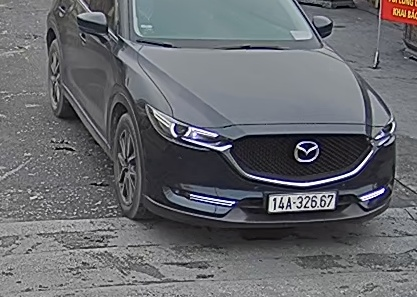vehicle plate: (264, 186, 341, 213)
